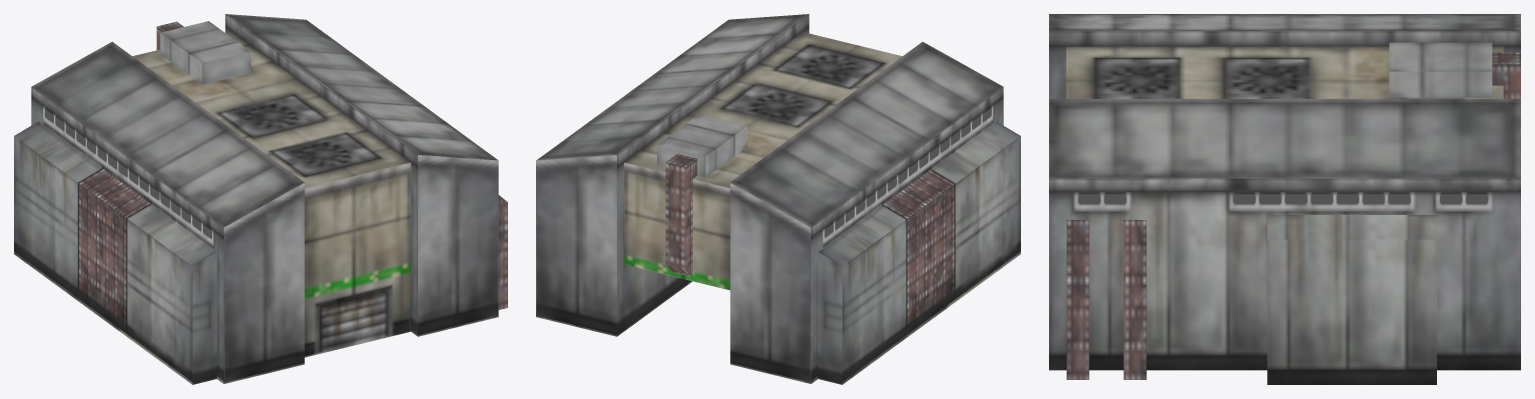
The model's file is industrialcomplex.glb.
3 views of the same model, side by side, from view 1: azimuth 30°, elevation 25°; view 2: azimuth 150°, elevation 25°; view 3: azimuth 270°, elevation 25° (orthographic). The views are drawn at different scales.
Visible parts, largest first — view 1: Object10, LitWin_IndustrialComplex; view 2: Object10, LitWin_IndustrialComplex; view 3: Object10, LitWin_IndustrialComplex.
Part boxes in pixels (x1,y1,x2,y2): Object10: (14,14,507,384); LitWin_IndustrialComplex: (45,109,211,238); Object10: (536,14,1020,384); LitWin_IndustrialComplex: (824,108,991,237); Object10: (1049,14,1520,384); LitWin_IndustrialComplex: (1078,194,1487,204).
Bounding box in the file's own units: 24.17 × 13.59 × 24.9.
1 material, 1 textured.
